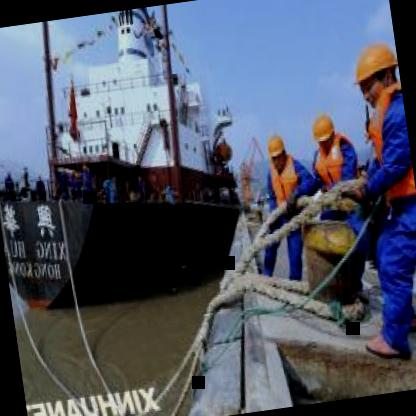helmet: (346, 36, 402, 114), (308, 111, 340, 159), (263, 129, 292, 174)
